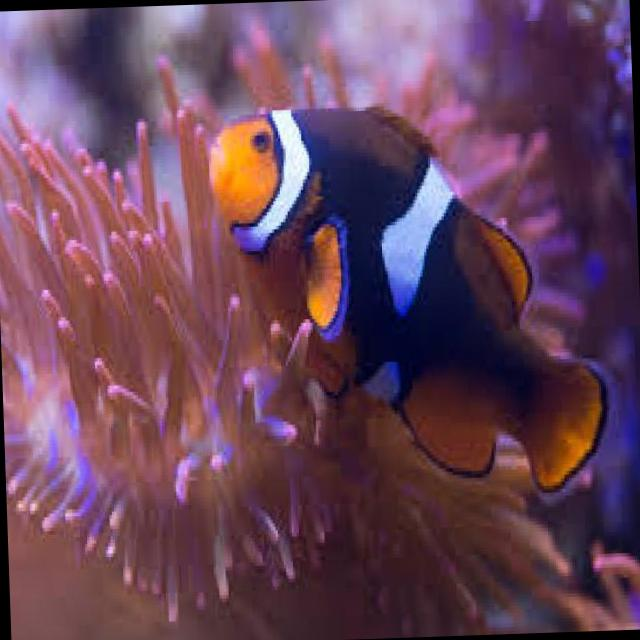ClownFish: (205, 93, 608, 505)
